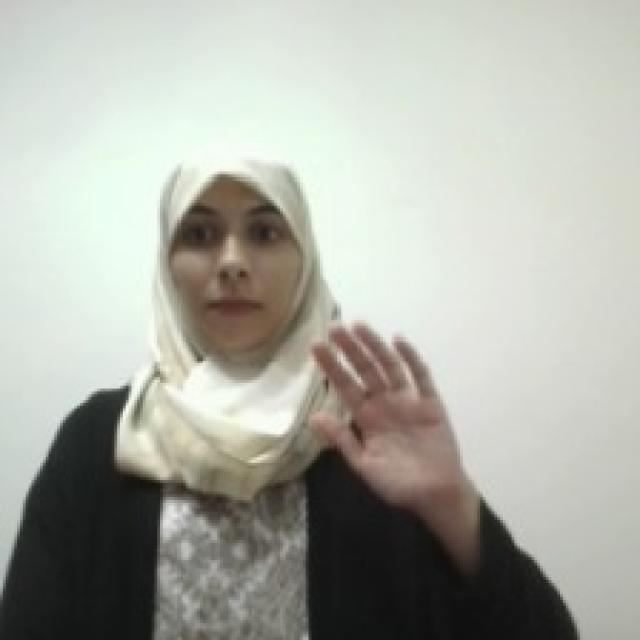Hello: (305, 316, 459, 502)
